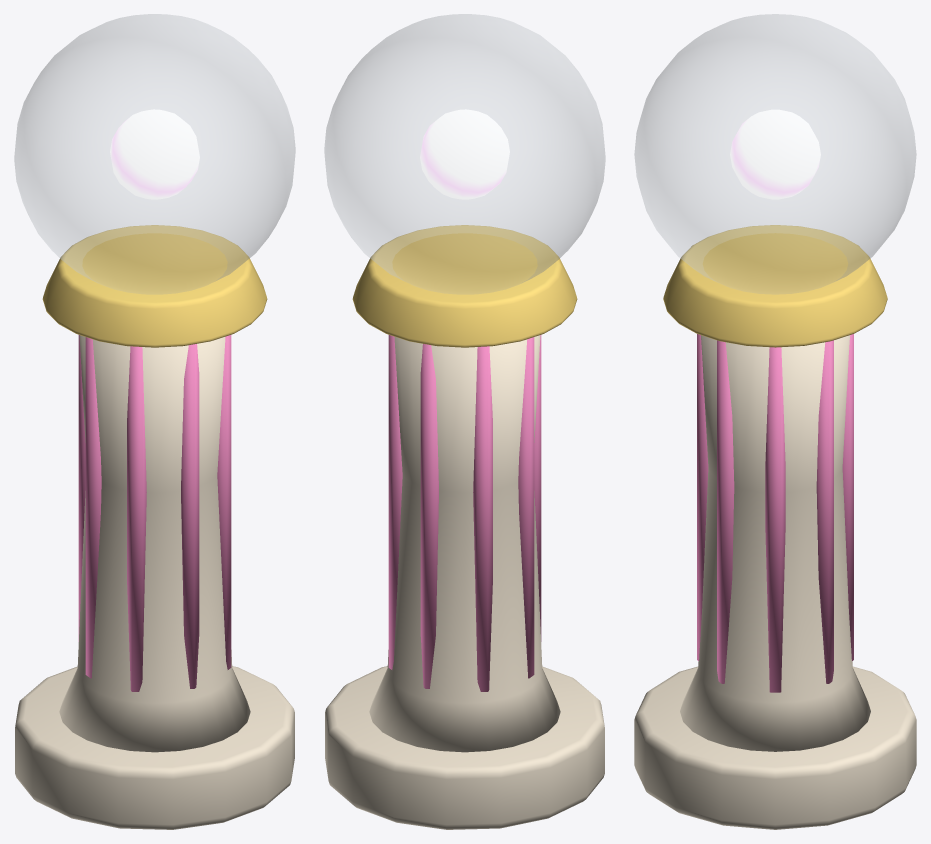
Rendered from bg_pillar.glb.
3 views of the same model, side by side, from view 1: azimuth 30°, elevation 25°; view 2: azimuth 150°, elevation 25°; view 3: azimuth 270°, elevation 25° (orthographic).
Parts seen in each view (by area): view 1: M_Pillar__pi_cream, M_Pillar__pi_glass, M_Pillar__pi_gold, M_Pillar__pi_pink, M_Pillar__pi_pearl; view 2: M_Pillar__pi_cream, M_Pillar__pi_glass, M_Pillar__pi_gold, M_Pillar__pi_pink, M_Pillar__pi_pearl; view 3: M_Pillar__pi_cream, M_Pillar__pi_glass, M_Pillar__pi_gold, M_Pillar__pi_pink, M_Pillar__pi_pearl.
Boxes of the visible parts, box(x1,y1,x2,y2) form: M_Pillar__pi_cream: box(15, 335, 294, 829); M_Pillar__pi_glass: box(14, 14, 295, 294); M_Pillar__pi_gold: box(42, 225, 267, 347); M_Pillar__pi_pink: box(78, 335, 231, 691); M_Pillar__pi_pearl: box(110, 109, 199, 199); M_Pillar__pi_cream: box(325, 335, 604, 829); M_Pillar__pi_glass: box(324, 14, 605, 294); M_Pillar__pi_gold: box(352, 225, 577, 347); M_Pillar__pi_pink: box(388, 335, 541, 691); M_Pillar__pi_pearl: box(420, 109, 509, 199); M_Pillar__pi_cream: box(634, 335, 916, 829); M_Pillar__pi_glass: box(634, 14, 916, 294); M_Pillar__pi_gold: box(663, 225, 887, 347); M_Pillar__pi_pink: box(697, 334, 853, 692); M_Pillar__pi_pearl: box(730, 109, 820, 199).
Bounding box in the file's own units: 1.24 × 3.62 × 1.24.
